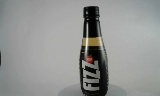appyfizz: (72, 5, 102, 95)
